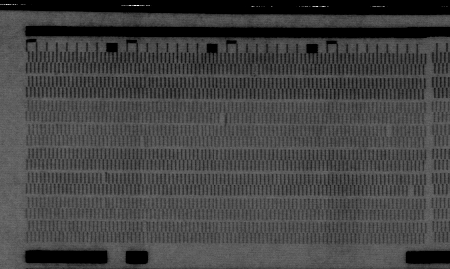Broken hole: (405, 184, 417, 197), (384, 124, 394, 139), (217, 112, 227, 123)
Oblique printing: (97, 172, 110, 186), (137, 134, 148, 150), (139, 221, 151, 232)
